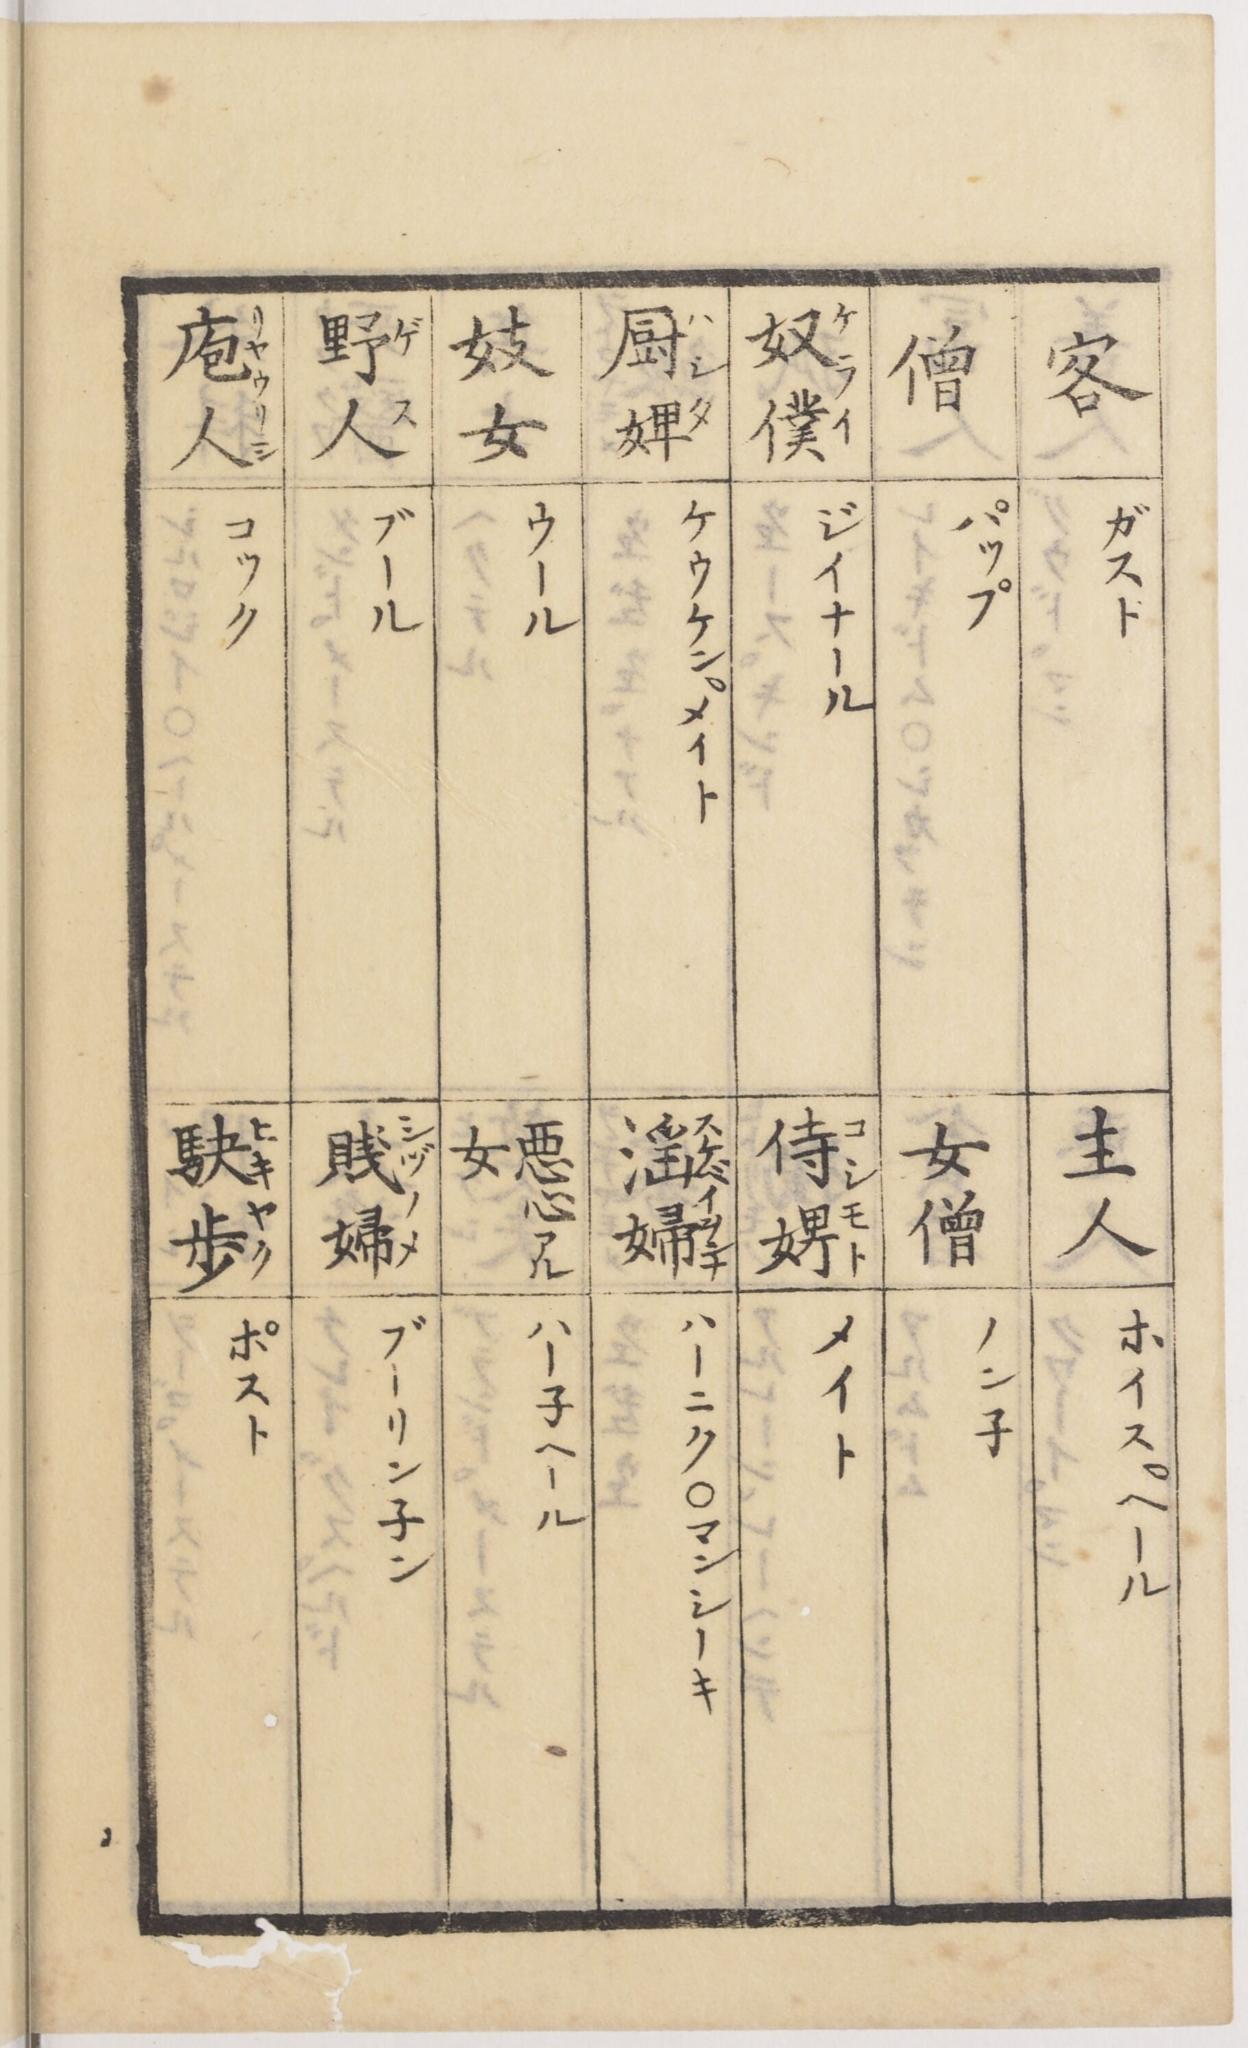MainZone-Character: (612, 1188, 733, 1284), (170, 1194, 284, 1295), (745, 293, 860, 389), (300, 386, 426, 474), (753, 1201, 876, 1287), (758, 1109, 873, 1198), (601, 304, 730, 383), (315, 1106, 436, 1189), (603, 1110, 734, 1186), (301, 301, 424, 380), (165, 1112, 284, 1194), (313, 1194, 430, 1276), (162, 307, 275, 392), (162, 399, 278, 480), (609, 388, 721, 465), (742, 396, 859, 471)
MainZone-Ruby: (828, 291, 862, 388), (244, 1198, 279, 1286), (696, 1186, 729, 1281), (692, 1115, 732, 1186), (685, 309, 726, 377), (838, 1200, 873, 1279), (395, 1115, 439, 1176), (838, 1116, 873, 1192), (246, 1116, 279, 1191), (396, 1197, 427, 1273), (249, 307, 274, 389), (246, 405, 274, 467), (392, 307, 424, 357), (830, 401, 857, 448), (686, 396, 717, 437), (391, 395, 417, 432)
